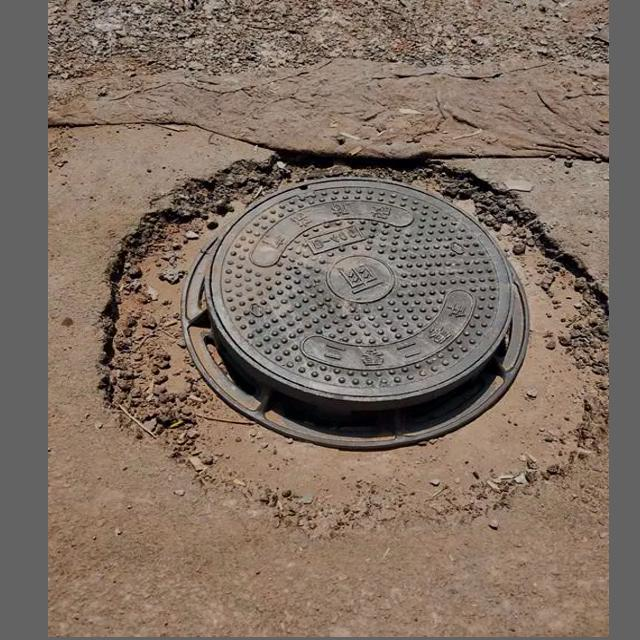circle: (105, 154, 599, 528)
